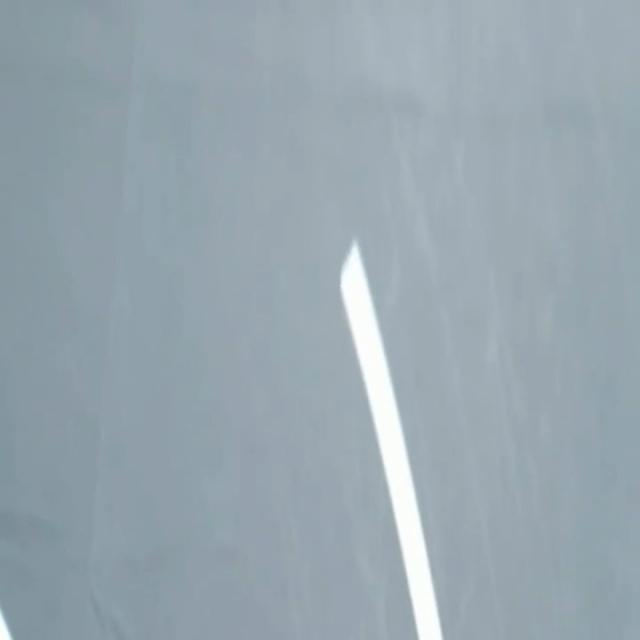center: (340, 241, 442, 639)
left: (0, 607, 12, 639)
